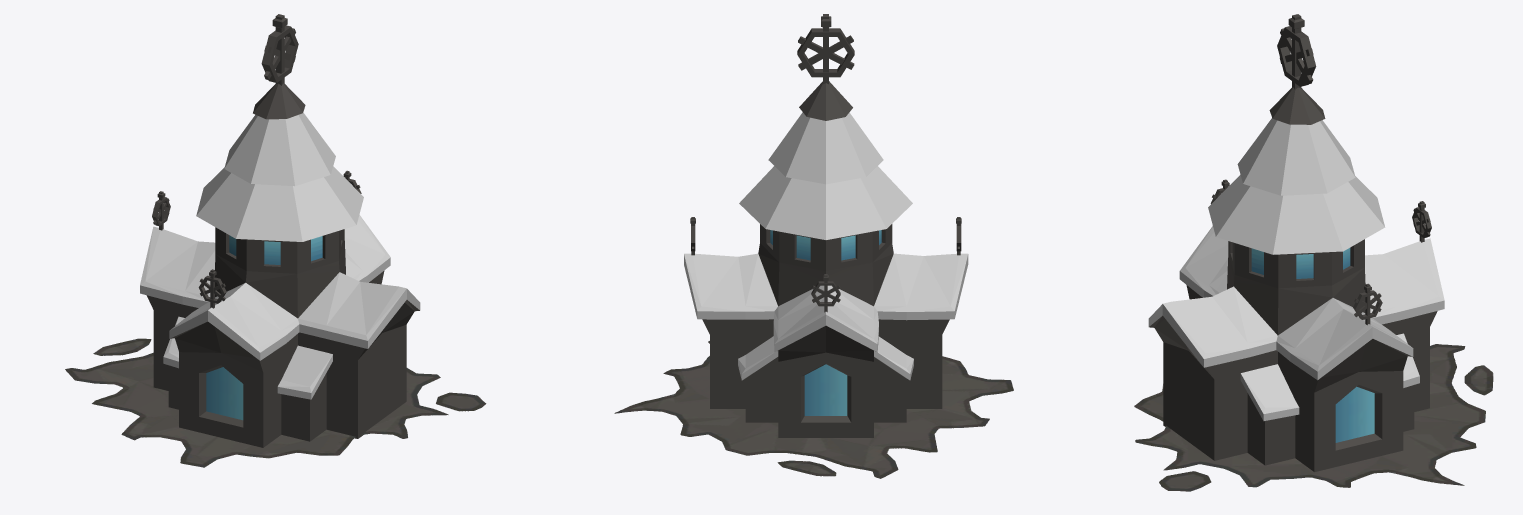
Rendered from desecratedchurch.fbx.
3 views of the same model, side by side, from view 1: azimuth 30°, elevation 25°; view 2: azimuth 150°, elevation 25°; view 3: azimuth 270°, elevation 25° (orthographic). The views are drawn at different scales.
Visible parts, largest first — view 1: desecratedchurch, groundPlane; view 2: desecratedchurch, groundPlane; view 3: desecratedchurch, groundPlane.
Part boxes in pixels (x1,y1,x2,y2): desecratedchurch: (140, 14, 420, 447); groundPlane: (65, 338, 486, 467); desecratedchurch: (684, 14, 968, 437); groundPlane: (614, 341, 1013, 478); desecratedchurch: (1148, 14, 1444, 472); groundPlane: (1134, 344, 1493, 491).
Bounding box in the file's own units: 3.71 × 4.09 × 3.71.
